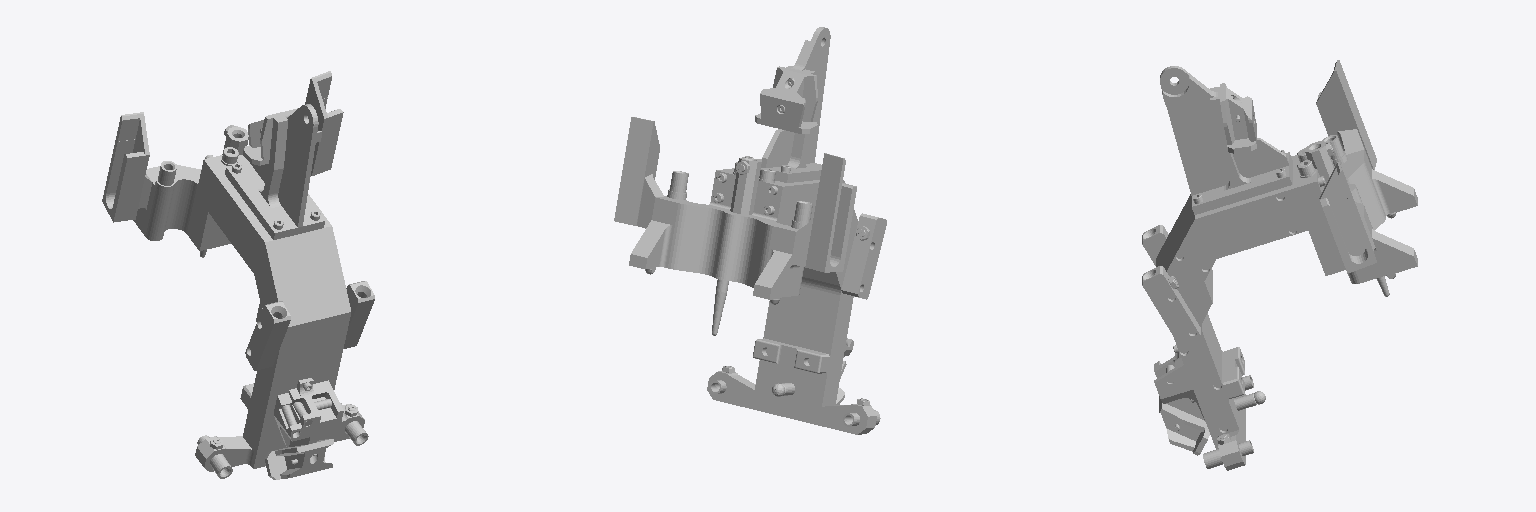
The picture shows the model from 3 angles: view 1: azimuth 30°, elevation 25°; view 2: azimuth 150°, elevation 25°; view 3: azimuth 270°, elevation 25°; orthographic projection.
Parts seen in each view (by area): view 1: Part__Feature; view 2: Part__Feature; view 3: Part__Feature.
Part boxes in pixels (bbox=[...]): Part__Feature: bbox=[102, 71, 374, 479]; Part__Feature: bbox=[614, 27, 886, 434]; Part__Feature: bbox=[1142, 60, 1417, 470].
Bounding box in the file's own units: 259 × 430 × 284.